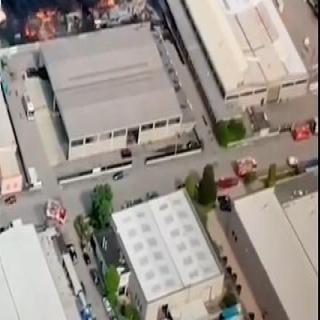smoke: (7, 0, 75, 35)
